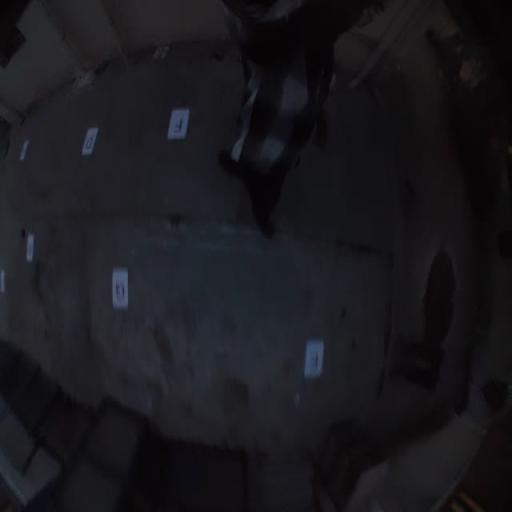D: (112, 267, 129, 309), (82, 127, 98, 156), (26, 232, 34, 264)
E: (304, 339, 324, 378)
F: (168, 108, 190, 140)
